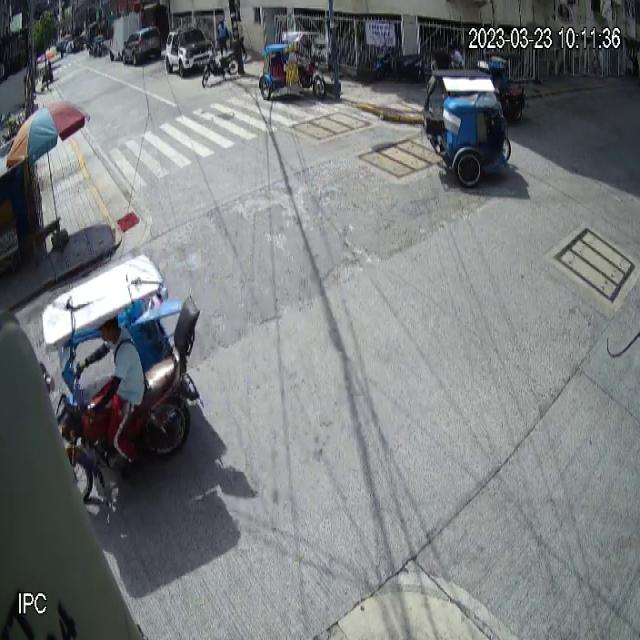Tricycle: (40, 253, 200, 503), (422, 68, 512, 190), (258, 30, 327, 101)
